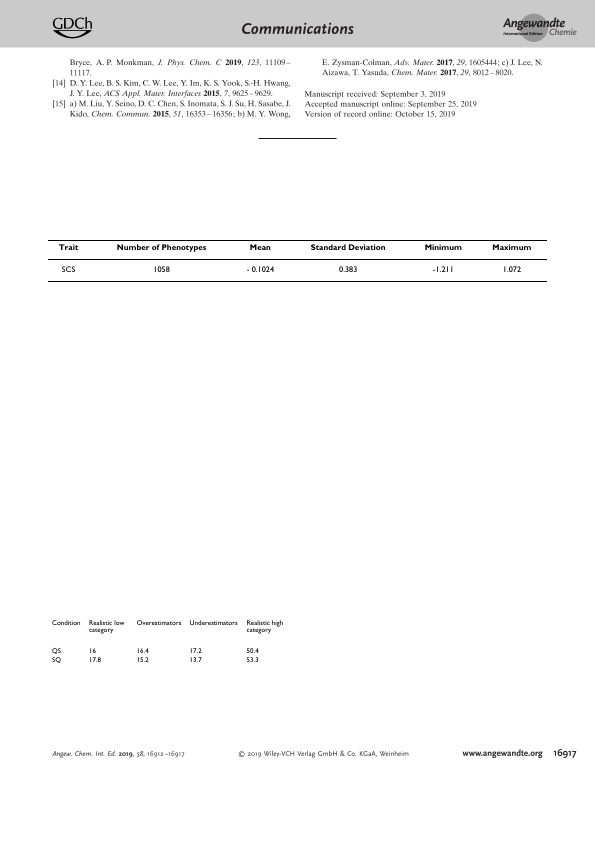borderless: (47, 238, 547, 281), (46, 617, 286, 675)
cell: (115, 243, 207, 252), (309, 243, 386, 252), (245, 619, 284, 635), (87, 619, 125, 635), (188, 619, 238, 628), (135, 619, 182, 628), (491, 243, 532, 252), (423, 243, 462, 252), (51, 619, 81, 628), (245, 265, 275, 273), (248, 243, 271, 252), (57, 243, 79, 252), (431, 265, 454, 273), (501, 265, 522, 273), (338, 265, 358, 273), (152, 265, 170, 273), (60, 265, 76, 273), (135, 647, 149, 656), (188, 647, 202, 656), (245, 647, 259, 656), (87, 656, 101, 665), (135, 656, 149, 665), (188, 656, 202, 665), (245, 656, 259, 665), (51, 647, 61, 656), (51, 656, 61, 665), (87, 647, 96, 656)
